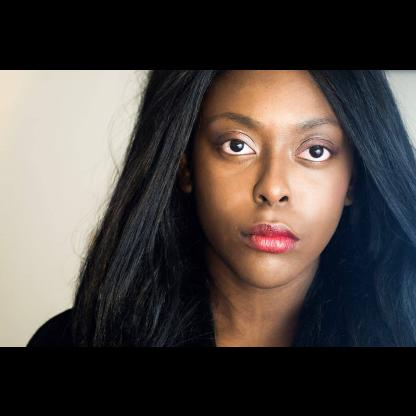Female: (178, 69, 360, 289)
